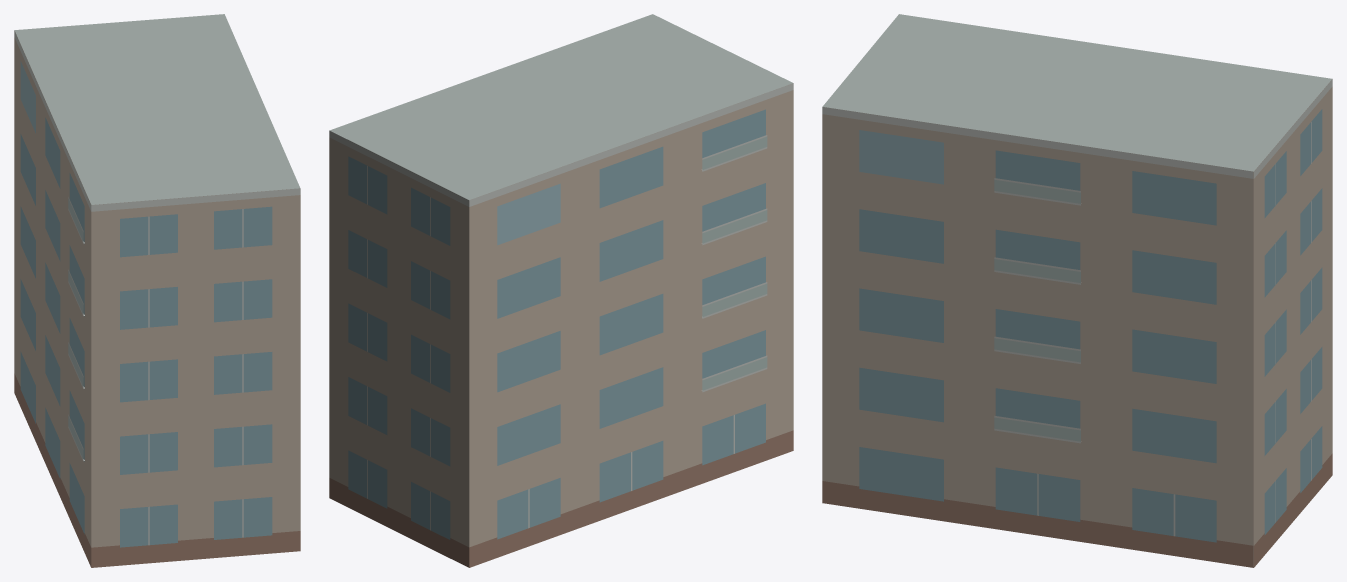
The model's file is survey-upis-32884962.glb.
3 views of the same model, side by side, from view 1: azimuth 30°, elevation 25°; view 2: azimuth 150°, elevation 25°; view 3: azimuth 270°, elevation 25° (orthographic). The views are drawn at different scales.
Parts seen in each view (by area): view 1: survey-upis-32884962.tmp; view 2: survey-upis-32884962.tmp; view 3: survey-upis-32884962.tmp.
Part boxes in pixels (x1=…): survey-upis-32884962.tmp: x1=14, y1=14, x2=300, y2=567; survey-upis-32884962.tmp: x1=329, y1=14, x2=793, y2=567; survey-upis-32884962.tmp: x1=822, y1=14, x2=1332, y2=567.
Bounding box in the file's own units: 11.18 × 13.1 × 15.3.
